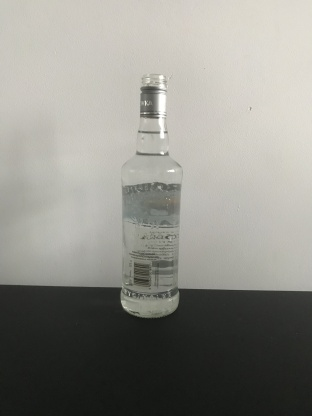nakretka: (137, 72, 169, 119)
